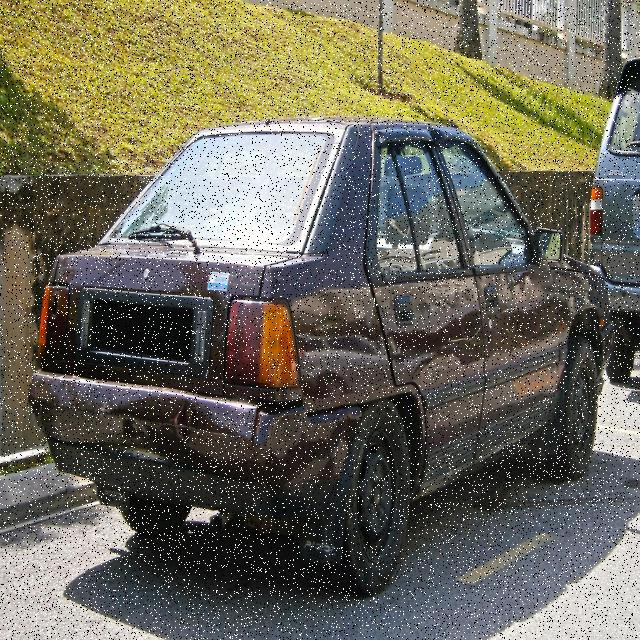rear-bumper-dent: (15, 366, 323, 524)
